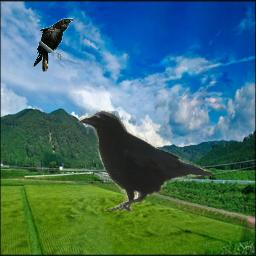Crow: (75, 108, 212, 211), (33, 18, 73, 72)
